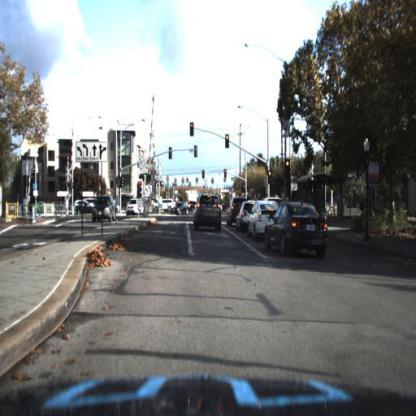car: (266, 198, 332, 256), (247, 201, 280, 241), (193, 192, 223, 232), (227, 192, 246, 232), (92, 196, 117, 222), (238, 197, 256, 233), (250, 203, 266, 242), (126, 200, 147, 220), (227, 196, 239, 230), (172, 200, 192, 220), (152, 196, 176, 212), (125, 199, 146, 217), (239, 202, 250, 234), (174, 200, 190, 217), (189, 201, 198, 215)
pedestrian: (411, 197, 416, 230)
trafficLight-Red: (136, 179, 146, 203), (284, 159, 294, 183), (267, 166, 275, 187), (225, 131, 233, 151), (137, 177, 144, 198), (285, 156, 293, 171), (225, 132, 232, 149), (267, 166, 274, 183), (188, 121, 196, 135), (200, 166, 207, 182), (222, 168, 228, 184), (224, 167, 230, 183), (243, 181, 247, 193)
trafficLight-RedLeft: (189, 122, 195, 138)
